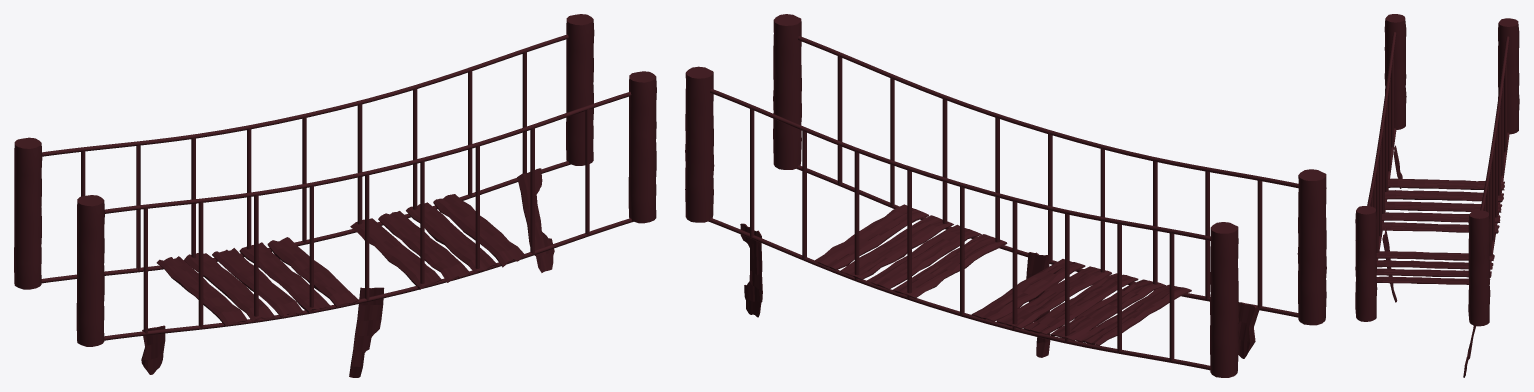
File: level_one_bridge_one.fbx
3 views of the same model, side by side, from view 1: azimuth 30°, elevation 25°; view 2: azimuth 150°, elevation 25°; view 3: azimuth 270°, elevation 25° (orthographic). The views are drawn at different scales.
Parts seen in each view (by area): view 1: BezierCurve; view 2: BezierCurve; view 3: BezierCurve.
Part boxes in pixels (<box>): BezierCurve: <box>14,14,656,377</box>; BezierCurve: <box>685,14,1326,377</box>; BezierCurve: <box>1355,14,1519,377</box>.
Size of the model in its own units: 479 by 1460 by 615.
